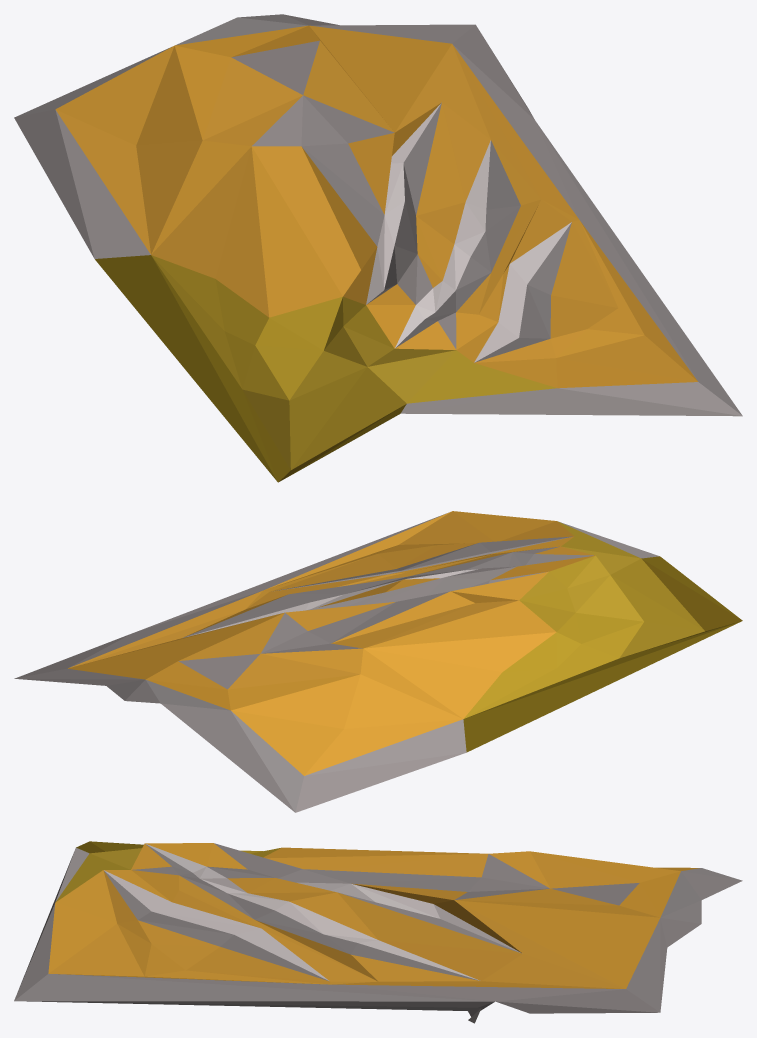
File: frieshield.fbx
The picture shows the model from 3 angles, top to bottom: view 1: azimuth 30°, elevation 25°; view 2: azimuth 150°, elevation 25°; view 3: azimuth 270°, elevation 25°; orthographic projection. The views are drawn at different scales.
Visible parts, largest first — view 1: Item Anti-dragon shield 2024-03-31_14-55-50; view 2: Item Anti-dragon shield 2024-03-31_14-55-50; view 3: Item Anti-dragon shield 2024-03-31_14-55-50.
Part boxes in pixels (x1,y1,x2,y2): Item Anti-dragon shield 2024-03-31_14-55-50: (14, 14, 742, 482); Item Anti-dragon shield 2024-03-31_14-55-50: (14, 511, 742, 812); Item Anti-dragon shield 2024-03-31_14-55-50: (14, 841, 742, 1023).
Bounding box in the file's own units: 7400 × 1400 × 10600.
